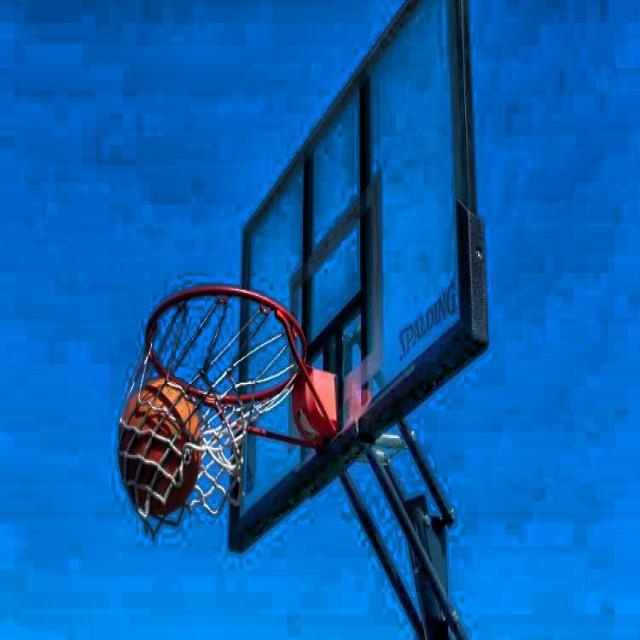rim: (122, 284, 305, 522)
